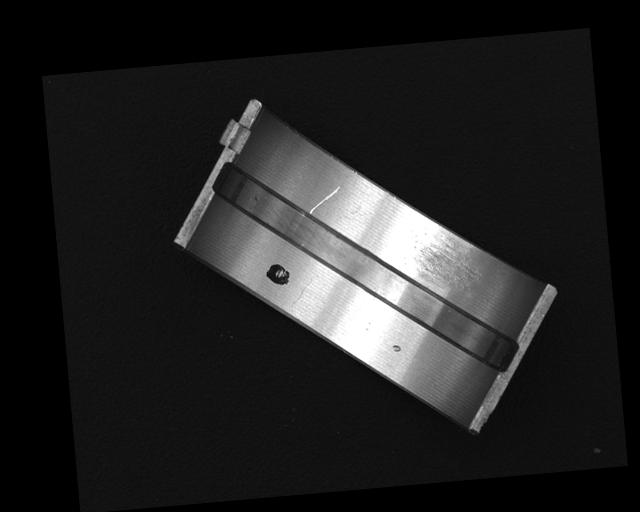blot: (264, 260, 292, 288)
bruise: (391, 341, 402, 353)
gap: (210, 138, 520, 392)
nick: (308, 186, 343, 215), (289, 276, 316, 306)
scratch: (402, 214, 485, 293)
